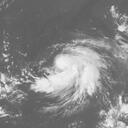cyclone: (54, 47, 100, 89)
